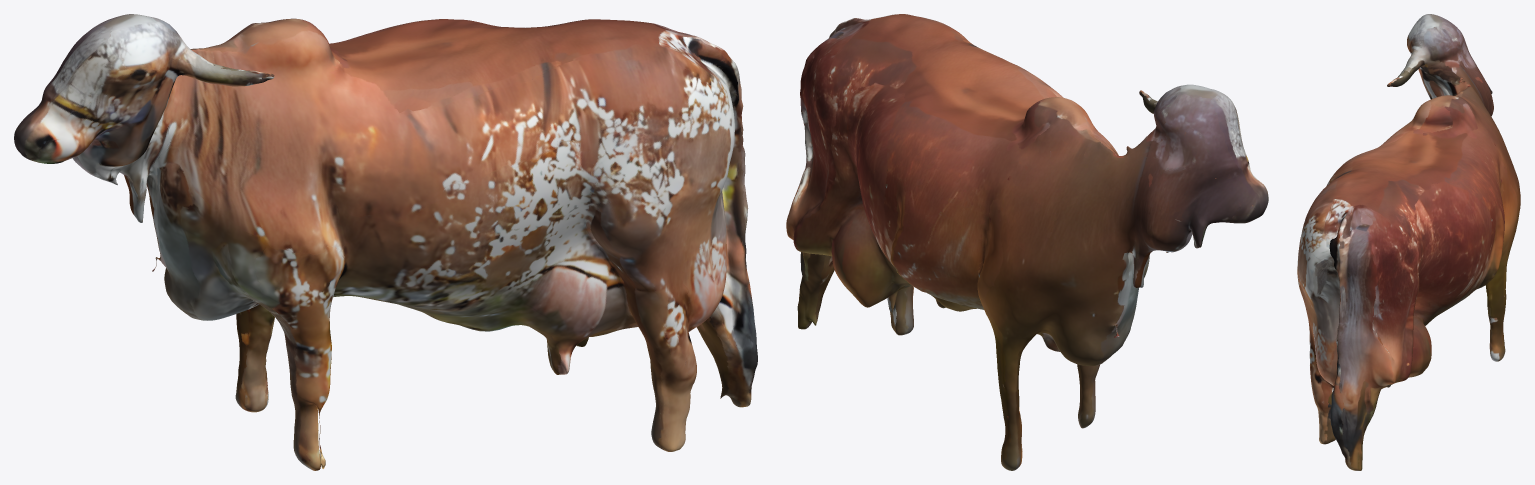
Rendered from adulto.glb.
The picture shows the model from 3 angles, left to right: view 1: azimuth 30°, elevation 25°; view 2: azimuth 150°, elevation 25°; view 3: azimuth 270°, elevation 25°; orthographic projection. The views are drawn at different scales.
Parts seen in each view (by area): view 1: mesh; view 2: mesh; view 3: mesh.
Part boxes in pixels (<box>): mesh: <box>14,14,757,470</box>; mesh: <box>786,14,1268,470</box>; mesh: <box>1297,14,1520,470</box>.
Bounding box in the file's own units: 1.63 × 1.13 × 0.7951.
1 material, 1 textured.
